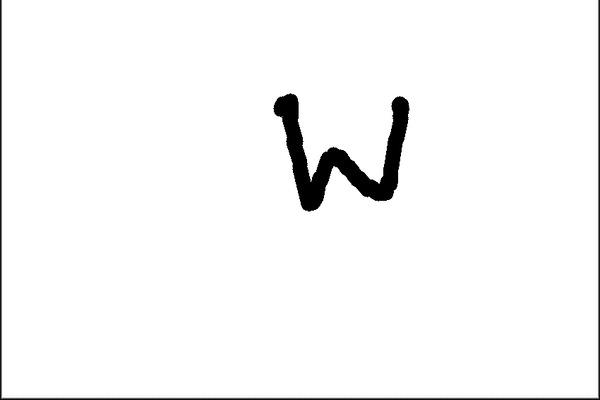w: (255, 83, 429, 224)
